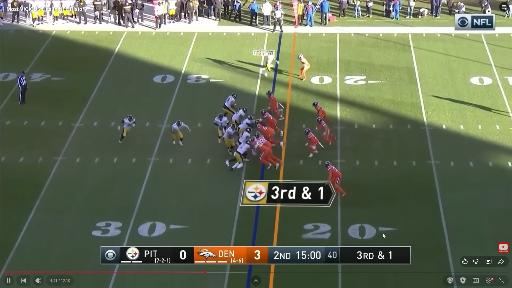Helmet: (260, 109, 267, 116), (324, 161, 331, 168), (245, 127, 252, 133), (312, 101, 318, 108), (176, 120, 182, 127), (127, 115, 133, 121), (231, 93, 237, 99), (255, 132, 261, 138), (255, 120, 261, 125), (242, 107, 247, 113), (231, 124, 236, 130), (304, 129, 310, 134), (316, 118, 322, 123), (298, 54, 303, 59), (248, 115, 253, 120), (218, 114, 223, 119), (267, 90, 271, 96), (251, 137, 256, 141), (271, 51, 275, 55)
Jersey: (254, 137, 271, 151), (328, 166, 341, 184), (252, 138, 267, 152), (258, 124, 274, 135), (172, 123, 189, 133), (232, 110, 245, 123), (238, 119, 252, 131), (214, 117, 228, 128), (269, 95, 278, 111), (237, 143, 250, 154), (263, 113, 277, 123), (308, 133, 319, 145), (223, 127, 234, 139), (224, 96, 235, 108), (239, 131, 250, 142), (318, 121, 329, 132), (123, 118, 135, 128), (328, 166, 340, 175), (316, 106, 325, 117), (301, 58, 310, 67), (266, 55, 274, 65)
Player: (251, 137, 280, 169), (255, 132, 281, 163), (256, 120, 283, 147), (226, 141, 250, 170), (325, 162, 345, 196), (261, 110, 283, 136), (316, 118, 336, 144), (305, 129, 323, 157), (267, 90, 284, 119), (172, 120, 190, 145), (119, 115, 135, 142), (313, 102, 331, 124), (214, 114, 228, 142), (223, 124, 235, 153), (238, 115, 254, 135), (223, 93, 236, 116), (232, 107, 247, 126), (299, 55, 310, 80), (255, 132, 271, 148), (264, 51, 274, 76), (238, 128, 251, 145)
